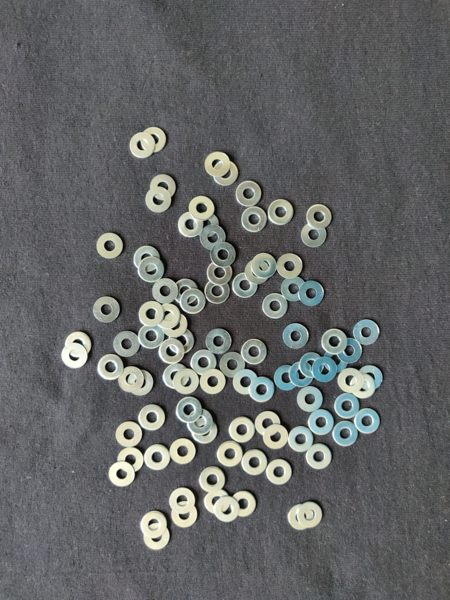circle: (240, 337, 270, 366), (268, 199, 297, 228), (306, 202, 335, 230), (353, 317, 381, 346), (231, 368, 260, 396), (144, 523, 173, 551), (148, 173, 178, 200), (160, 311, 190, 338), (173, 367, 200, 397), (200, 224, 228, 252), (262, 293, 290, 321), (283, 322, 311, 350), (249, 376, 277, 404), (93, 296, 121, 324), (97, 353, 125, 381), (296, 387, 324, 415), (177, 210, 204, 239), (276, 252, 305, 279), (96, 233, 125, 260), (298, 501, 325, 530), (241, 448, 268, 477), (229, 415, 256, 444), (117, 446, 144, 475), (206, 329, 236, 355), (281, 274, 308, 302), (218, 352, 246, 379), (190, 349, 218, 376), (200, 369, 227, 397), (64, 331, 92, 358), (354, 408, 382, 435), (307, 410, 335, 437), (306, 443, 333, 471), (198, 466, 226, 493), (213, 161, 242, 187), (152, 276, 178, 305), (112, 331, 141, 357), (161, 364, 190, 390), (288, 503, 314, 532), (193, 416, 219, 445), (137, 405, 166, 431), (115, 421, 144, 447), (145, 444, 171, 473), (108, 462, 137, 488), (145, 187, 172, 214), (302, 222, 329, 249), (321, 328, 348, 355), (128, 370, 155, 397), (266, 459, 293, 486), (172, 501, 199, 528), (141, 124, 167, 152), (193, 211, 219, 239), (179, 289, 207, 315), (139, 257, 167, 283), (275, 365, 301, 393), (168, 328, 196, 354), (118, 365, 144, 393), (61, 343, 89, 369), (205, 149, 230, 178), (242, 206, 267, 235), (189, 196, 218, 221), (202, 280, 232, 304), (132, 246, 162, 270), (130, 132, 156, 159), (236, 180, 263, 206), (252, 252, 278, 279), (173, 279, 199, 306), (324, 347, 351, 373), (301, 352, 327, 379), (290, 362, 316, 389), (217, 441, 243, 468), (188, 408, 214, 435), (169, 487, 196, 513), (290, 425, 315, 453), (214, 496, 239, 524), (299, 281, 325, 307), (158, 339, 184, 365), (359, 364, 385, 390), (338, 367, 364, 393), (211, 242, 236, 269), (245, 258, 270, 285), (334, 393, 361, 418), (255, 411, 282, 436), (175, 397, 202, 422), (171, 439, 196, 466), (140, 513, 167, 538), (235, 272, 259, 300), (138, 324, 163, 350), (334, 421, 359, 447), (231, 491, 256, 517), (264, 424, 288, 451), (204, 489, 228, 516), (352, 373, 377, 398), (139, 302, 165, 326), (314, 357, 338, 382), (339, 338, 362, 364), (157, 304, 180, 329), (207, 262, 233, 284)
